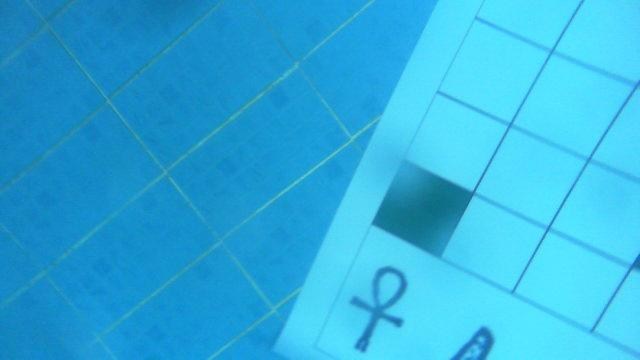Ankh: (346, 266, 412, 360)
